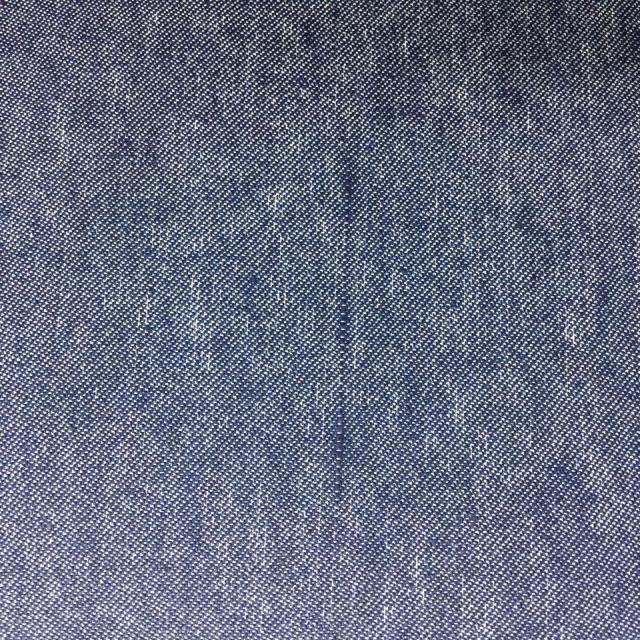Line: (326, 152, 355, 519)
